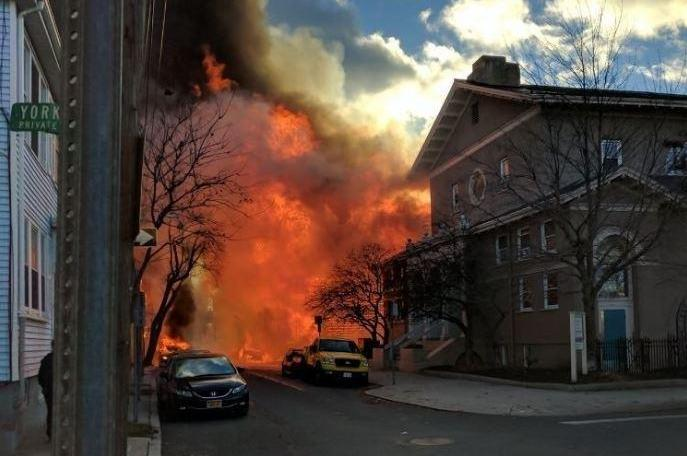Fire: (156, 118, 415, 387)
